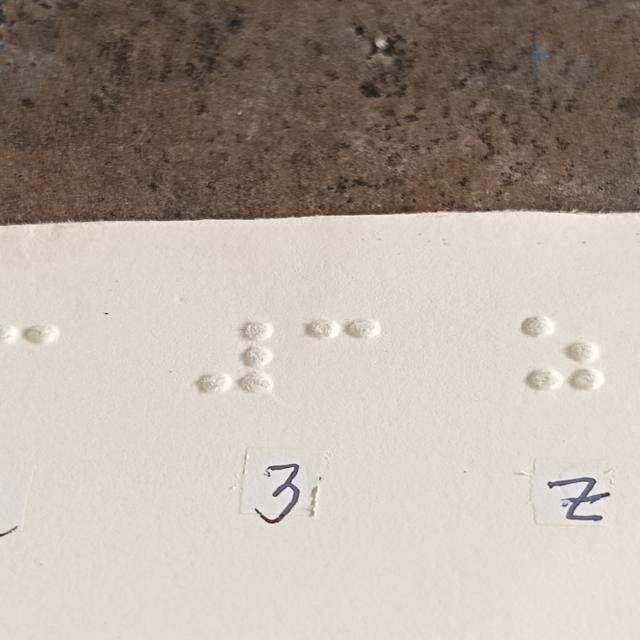3: (302, 317, 380, 390)
number: (195, 321, 273, 394)
z: (523, 316, 603, 392)
